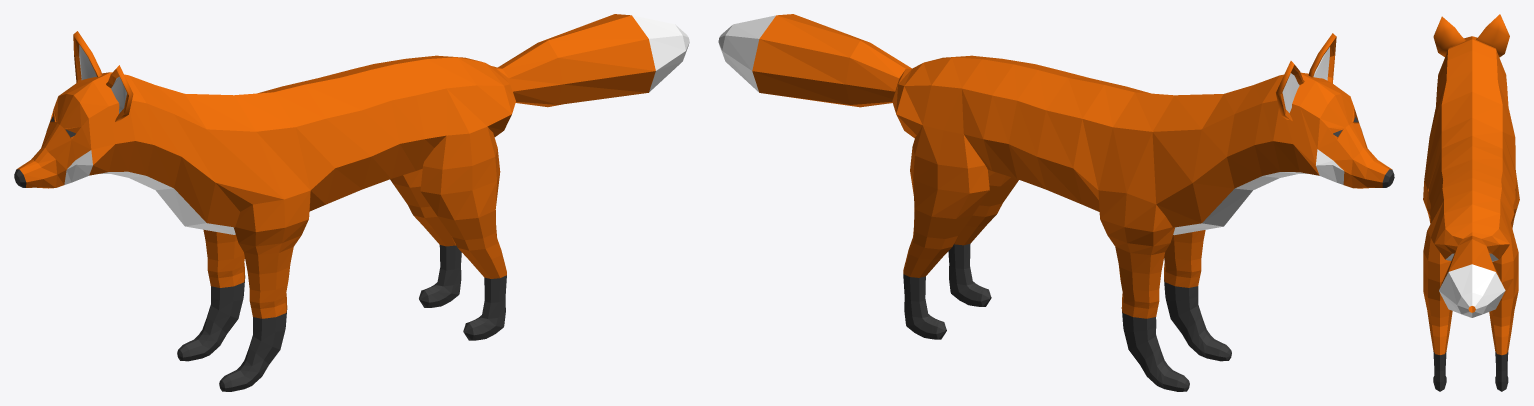
File: zorro.fbx
3 views of the same model, side by side, from view 1: azimuth 30°, elevation 25°; view 2: azimuth 150°, elevation 25°; view 3: azimuth 270°, elevation 25° (orthographic). The views are drawn at different scales.
Visible parts, largest first — view 1: Cylinder001; view 2: Cylinder001; view 3: Cylinder001.
Part boxes in pixels (<box>): Cylinder001: <box>14,14,689,391</box>; Cylinder001: <box>718,14,1394,391</box>; Cylinder001: <box>1423,14,1519,391</box>.
Bounding box in the file's own units: 1604 × 835 × 289.
